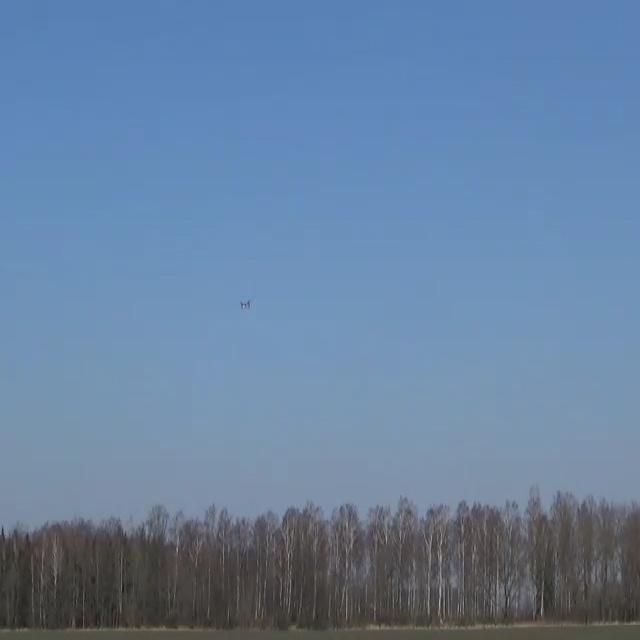drone: (239, 299, 250, 310)
